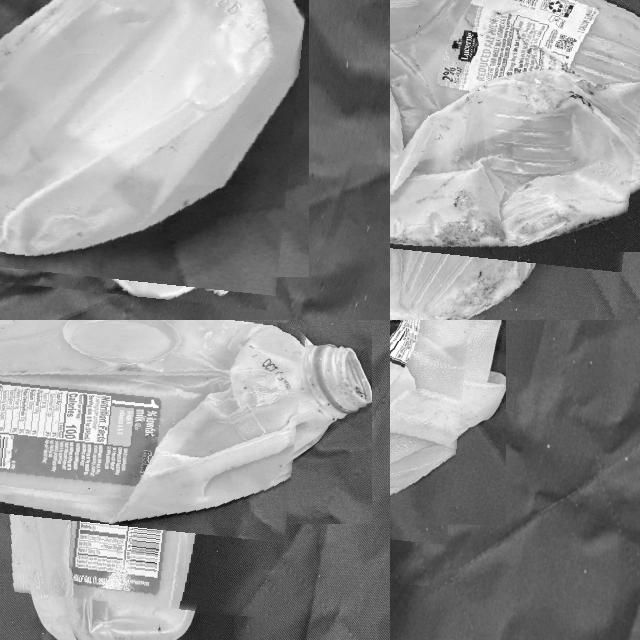milk-jug: (0, 0, 304, 301), (0, 320, 305, 610), (390, 0, 640, 320), (390, 320, 472, 577)
